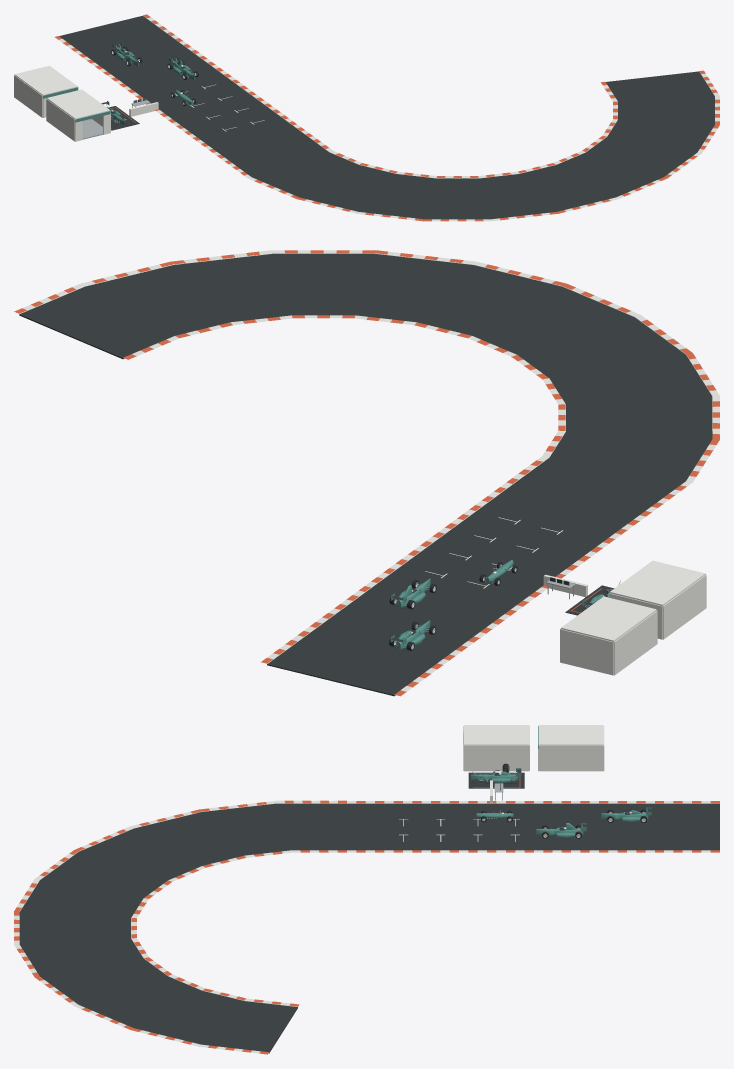
Rendered from grand-prix-circuit-and-open-wheel-hairpi-a14d0be4-starter-scene__15255.glb.
3 views of the same model, one above another, from view 1: azimuth 30°, elevation 25°; view 2: azimuth 150°, elevation 25°; view 3: azimuth 270°, elevation 25° (orthographic). The views are drawn at different scales.
Visible parts, largest first — view 1: 000-hairpin-180/2, 001-start-finish-straight/2, 002-straight-20m/2, 008-pit-garage-bay/1, 000-hairpin-180/0, 000-hairpin-180/1, 009-pit-garage-bay/1, 001-start-finish-straight/0, 002-straight-20m/0, 002-straight-20m/1, 001-start-finish-straight/1; view 2: 000-hairpin-180/2, 001-start-finish-straight/2, 002-straight-20m/2, 009-pit-garage-bay/1, 000-hairpin-180/0, 008-pit-garage-bay/1, 000-hairpin-180/1, 001-start-finish-straight/0, 002-straight-20m/0, 002-straight-20m/1, 001-start-finish-straight/1; view 3: 000-hairpin-180/2, 001-start-finish-straight/2, 002-straight-20m/2, 009-pit-garage-bay/1, 008-pit-garage-bay/1, 000-hairpin-180/0, 000-hairpin-180/1, 001-start-finish-straight/0, 002-straight-20m/0, 002-straight-20m/1, 001-start-finish-straight/1.
Part boxes in pixels (bbox=[...]): 000-hairpin-180/2: bbox=[222, 71, 714, 219]; 001-start-finish-straight/2: bbox=[140, 75, 304, 154]; 002-straight-20m/2: bbox=[59, 16, 222, 95]; 008-pit-garage-bay/1: bbox=[46, 89, 110, 141]; 000-hairpin-180/0: bbox=[221, 71, 719, 221]; 000-hairpin-180/1: bbox=[217, 70, 719, 221]; 009-pit-garage-bay/1: bbox=[14, 65, 77, 117]; 001-start-finish-straight/0: bbox=[141, 75, 308, 155]; 002-straight-20m/0: bbox=[58, 15, 227, 95]; 002-straight-20m/1: bbox=[54, 14, 223, 92]; 001-start-finish-straight/1: bbox=[135, 73, 304, 152]; 000-hairpin-180/2: bbox=[19, 254, 712, 515]; 001-start-finish-straight/2: bbox=[390, 484, 638, 605]; 002-straight-20m/2: bbox=[267, 574, 515, 696]; 009-pit-garage-bay/1: bbox=[560, 596, 657, 675]; 000-hairpin-180/0: bbox=[19, 250, 719, 512]; 008-pit-garage-bay/1: bbox=[609, 560, 706, 639]; 000-hairpin-180/1: bbox=[14, 250, 719, 516]; 001-start-finish-straight/0: bbox=[389, 482, 645, 601]; 002-straight-20m/0: bbox=[267, 572, 522, 695]; 002-straight-20m/1: bbox=[260, 577, 516, 696]; 001-start-finish-straight/1: bbox=[383, 487, 639, 606]; 000-hairpin-180/2: bbox=[19, 803, 346, 1053]; 001-start-finish-straight/2: bbox=[347, 803, 533, 850]; 002-straight-20m/2: bbox=[534, 803, 719, 851]; 009-pit-garage-bay/1: bbox=[538, 725, 604, 771]; 008-pit-garage-bay/1: bbox=[463, 725, 529, 771]; 000-hairpin-180/0: bbox=[14, 800, 346, 1053]; 000-hairpin-180/1: bbox=[14, 800, 346, 1054]; 001-start-finish-straight/0: bbox=[347, 801, 533, 852]; 002-straight-20m/0: bbox=[534, 801, 719, 852]; 002-straight-20m/1: bbox=[543, 801, 719, 852]; 001-start-finish-straight/1: bbox=[356, 801, 533, 852].
Size of the model in its own units: 77.51 by 3.12 by 75.87.
